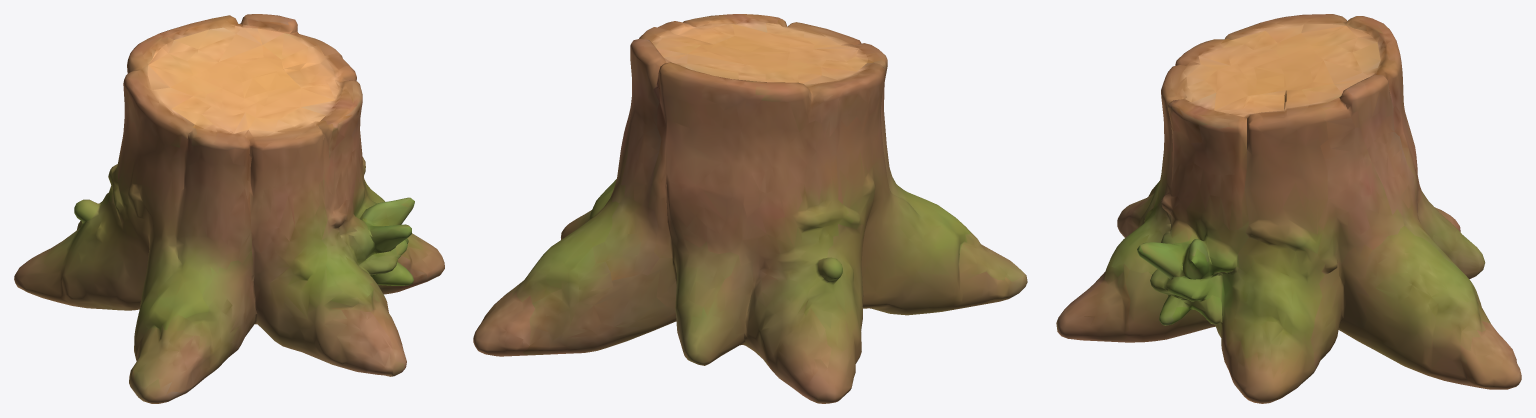
The model's file is tocon.glb.
3 renders of one model, left to right at view 1: azimuth 30°, elevation 25°; view 2: azimuth 150°, elevation 25°; view 3: azimuth 270°, elevation 25°, orthographic. The views are drawn at different scales.
Parts seen in each view (by area): view 1: tocon_malla; view 2: tocon_malla; view 3: tocon_malla.
Boxes of the visible parts, bbox=[...] form: tocon_malla: bbox=[14, 14, 444, 403]; tocon_malla: bbox=[473, 14, 1027, 403]; tocon_malla: bbox=[1056, 14, 1521, 403].
Bounding box in the file's own units: 0.1512 × 0.1017 × 0.1597.
1 material, 1 textured.
